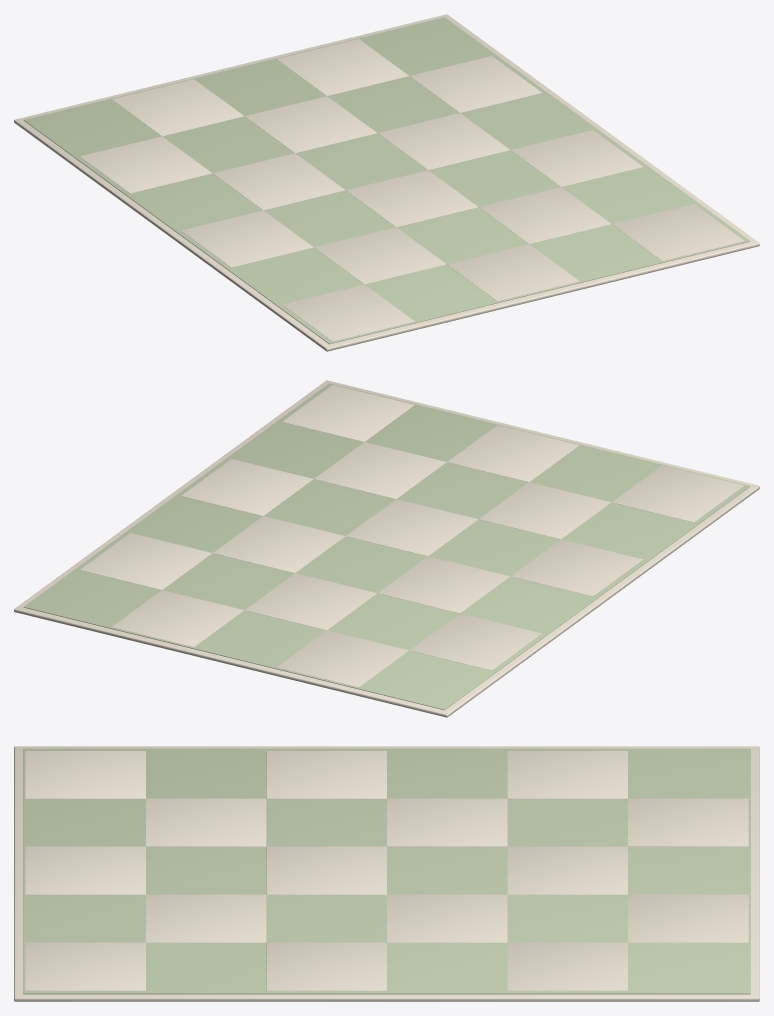
The model's file is wide-check-rug.glb.
3 renders of one model, top to bottom at view 1: azimuth 30°, elevation 25°; view 2: azimuth 150°, elevation 25°; view 3: azimuth 270°, elevation 25°, orthographic. The views are drawn at different scales.
Parts seen in each view (by area): view 1: wide-check-rug; view 2: wide-check-rug; view 3: wide-check-rug.
Boxes of the visible parts, x1,y1,x2,y2 form: wide-check-rug: (14, 14, 759, 351); wide-check-rug: (14, 380, 759, 717); wide-check-rug: (14, 746, 759, 1001).
Size of the model in its own units: 2.4 by 0.024 by 3.
